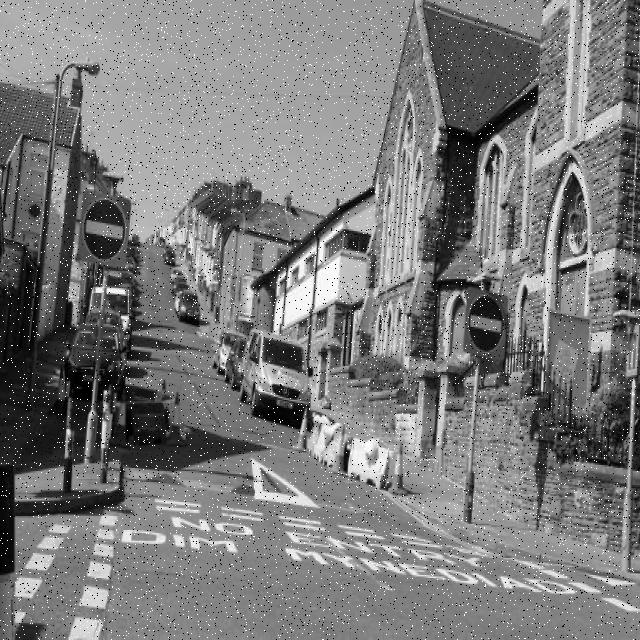no entry: (83, 198, 126, 259), (468, 296, 502, 353)
